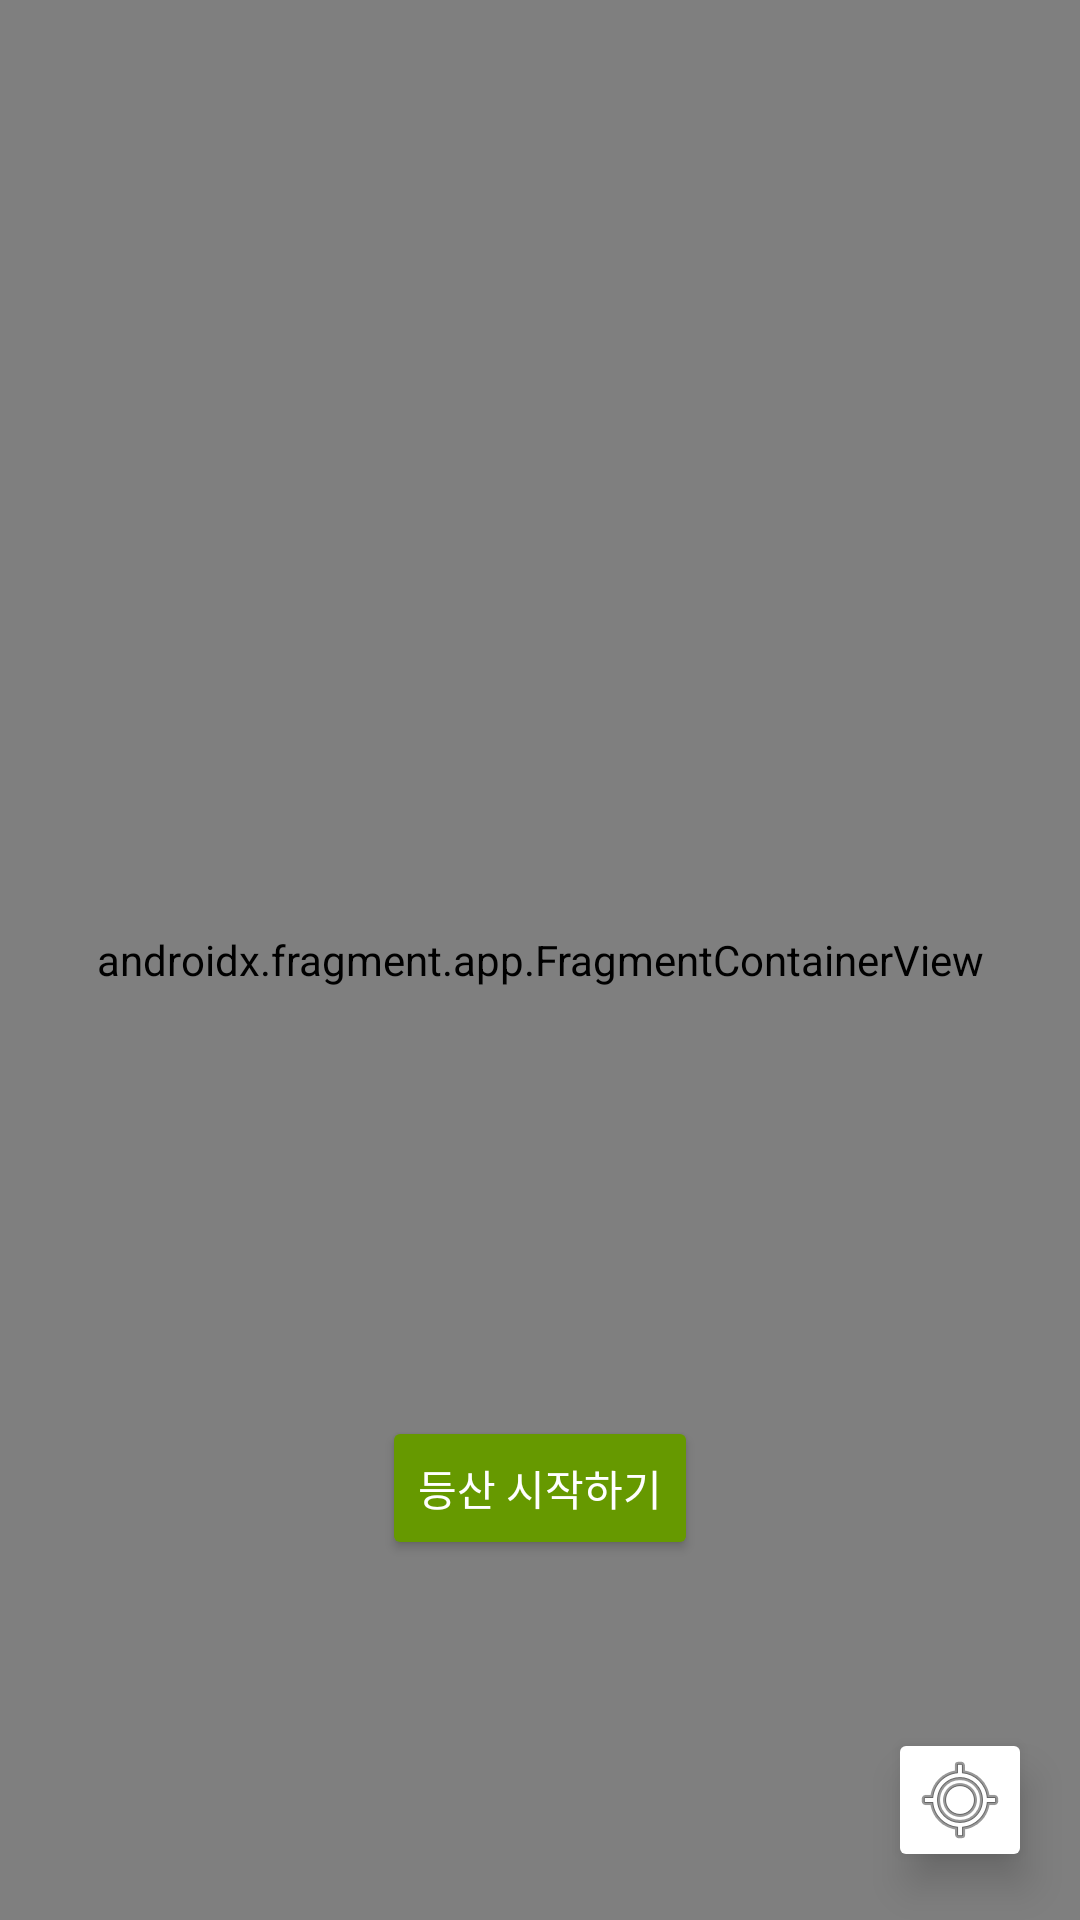

Icon bounding boxes for this 1080x1920 phone screenshot, format (x1, y1, x2, y2):
내 위치로 이동: (900, 1746, 1020, 1854)
